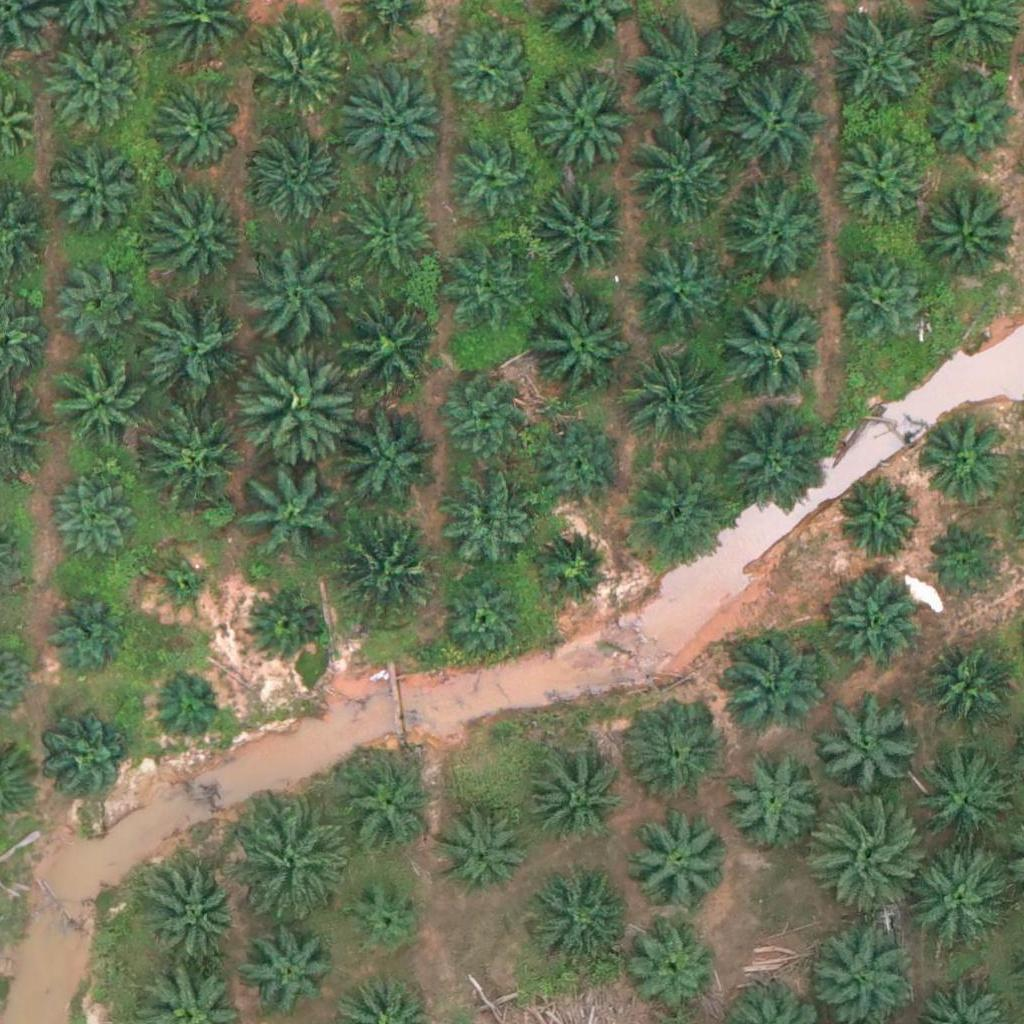Kelapa_Sawit: (142, 182, 255, 296), (718, 172, 831, 286), (234, 807, 347, 921), (248, 348, 361, 461), (522, 283, 635, 396), (624, 19, 737, 132), (621, 463, 734, 576), (722, 67, 835, 180), (710, 284, 823, 397), (247, 242, 359, 356), (141, 292, 253, 405), (140, 394, 252, 507), (243, 457, 355, 570), (336, 63, 448, 176), (336, 288, 448, 401), (334, 509, 446, 622), (524, 66, 636, 179), (627, 123, 739, 236), (615, 344, 727, 457), (714, 407, 826, 520), (812, 798, 924, 911), (43, 38, 143, 139), (52, 351, 152, 452), (251, 14, 351, 115), (343, 177, 443, 278), (336, 411, 436, 512), (339, 755, 439, 856), (434, 478, 534, 579), (527, 178, 627, 279), (832, 8, 932, 109), (819, 694, 919, 795), (717, 633, 817, 734), (625, 698, 725, 799), (525, 747, 625, 848), (907, 848, 1007, 949), (630, 808, 730, 909), (526, 868, 626, 969), (252, 128, 352, 228), (626, 236, 726, 336), (914, 179, 1014, 279), (822, 580, 922, 680), (721, 749, 821, 849), (917, 755, 1017, 855), (147, 864, 247, 964), (50, 138, 138, 226), (58, 259, 146, 347), (50, 479, 138, 567), (47, 718, 135, 806), (530, 523, 618, 611), (442, 131, 530, 219), (836, 134, 924, 222), (839, 254, 927, 342), (929, 73, 1017, 161), (440, 810, 528, 898), (45, 585, 132, 673), (159, 91, 246, 179), (440, 22, 527, 110), (445, 249, 532, 337), (441, 374, 528, 462), (443, 578, 530, 666), (536, 419, 623, 507), (922, 645, 1009, 733), (917, 414, 1004, 502), (835, 477, 922, 565), (630, 920, 717, 1008), (244, 931, 331, 1019), (245, 586, 320, 662), (348, 880, 423, 956), (151, 669, 226, 744), (930, 530, 1005, 605), (152, 558, 215, 621)
